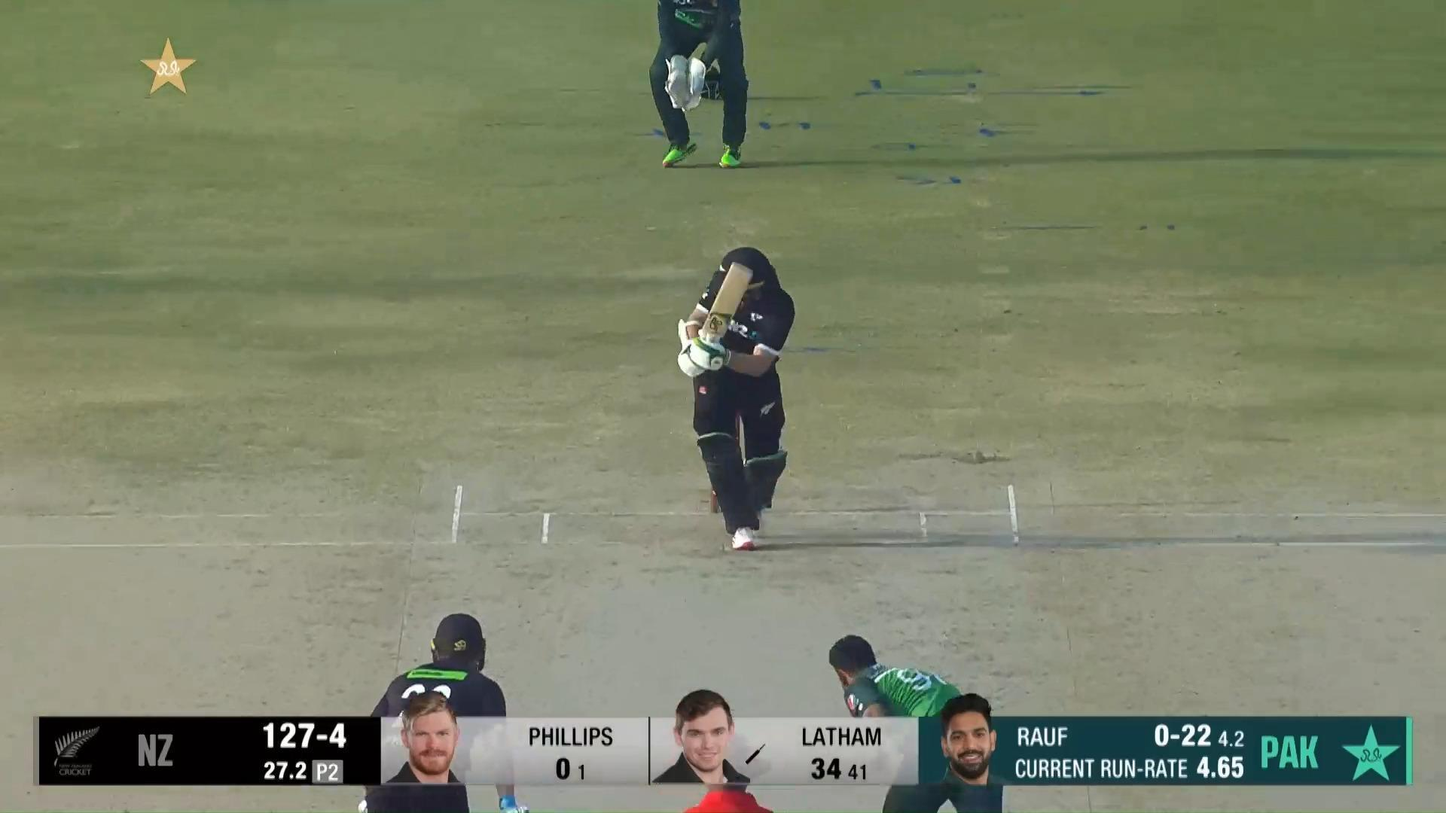BM 1: (678, 248, 797, 553)
BO: (827, 633, 1009, 813)
